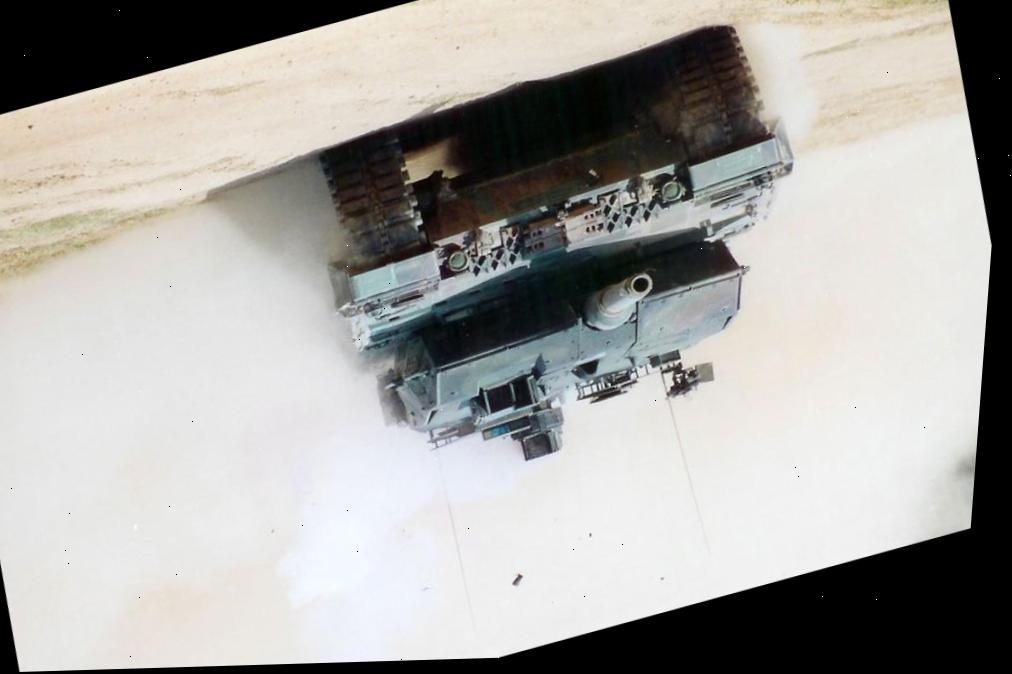tank: (261, 0, 869, 517)
